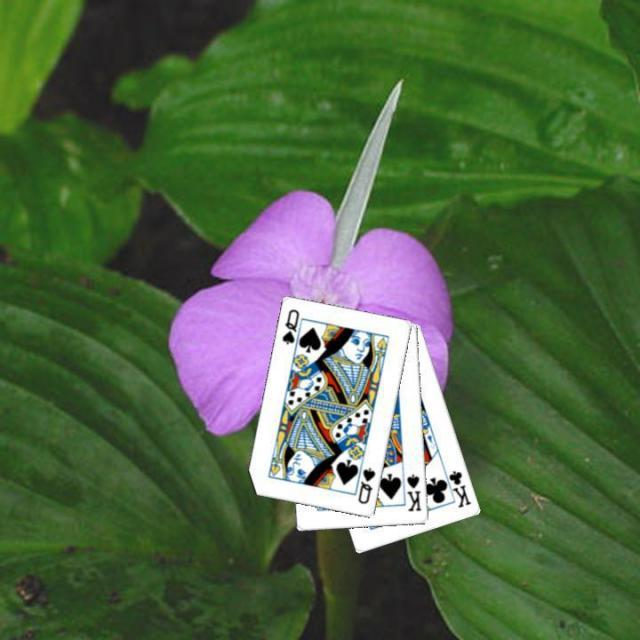KC: (440, 466, 473, 510)
KS: (404, 470, 424, 514)
QS: (355, 464, 378, 506), (279, 306, 302, 347)
